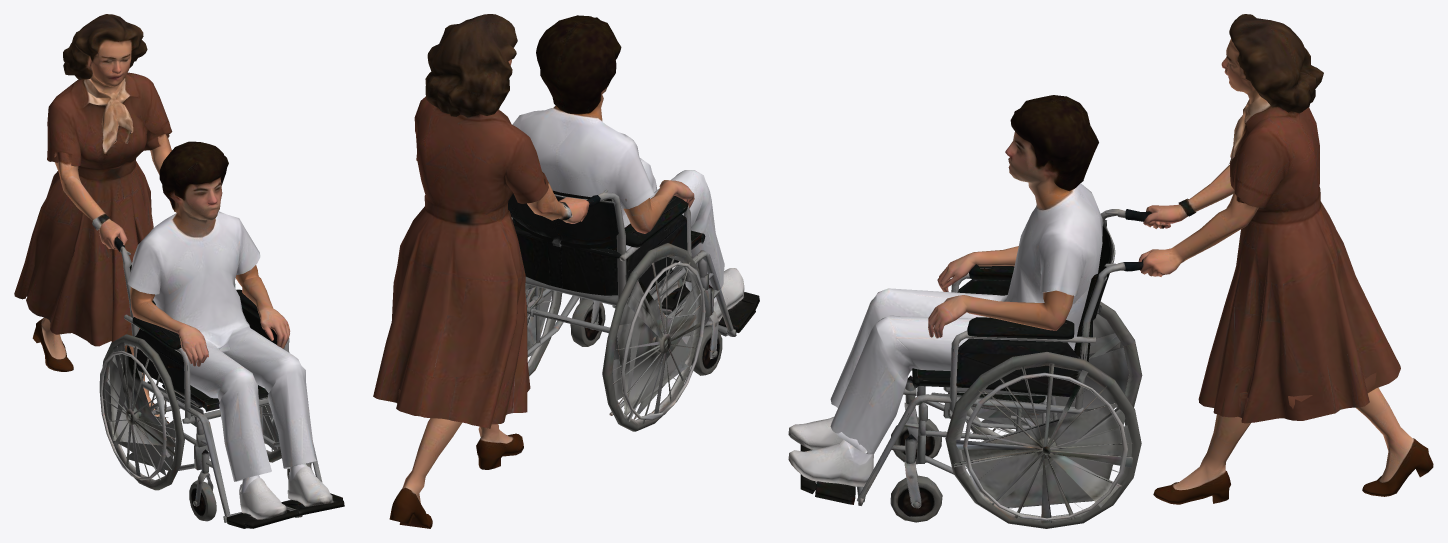
File: mom_confused_static.glb
3 views of the same model, side by side, from view 1: azimuth 30°, elevation 25°; view 2: azimuth 150°, elevation 25°; view 3: azimuth 270°, elevation 25° (orthographic). The views are drawn at different scales.
Visible parts, largest first — view 1: geometry_0; view 2: geometry_0; view 3: geometry_0.
Part boxes in pixels (box(x1,y1,x2,y2)): geometry_0: box(14, 14, 344, 528); geometry_0: box(373, 14, 759, 528); geometry_0: box(788, 14, 1433, 528).
Size of the model in its own units: 0.2896 by 0.7671 by 0.9497.
1 material, 1 textured.
